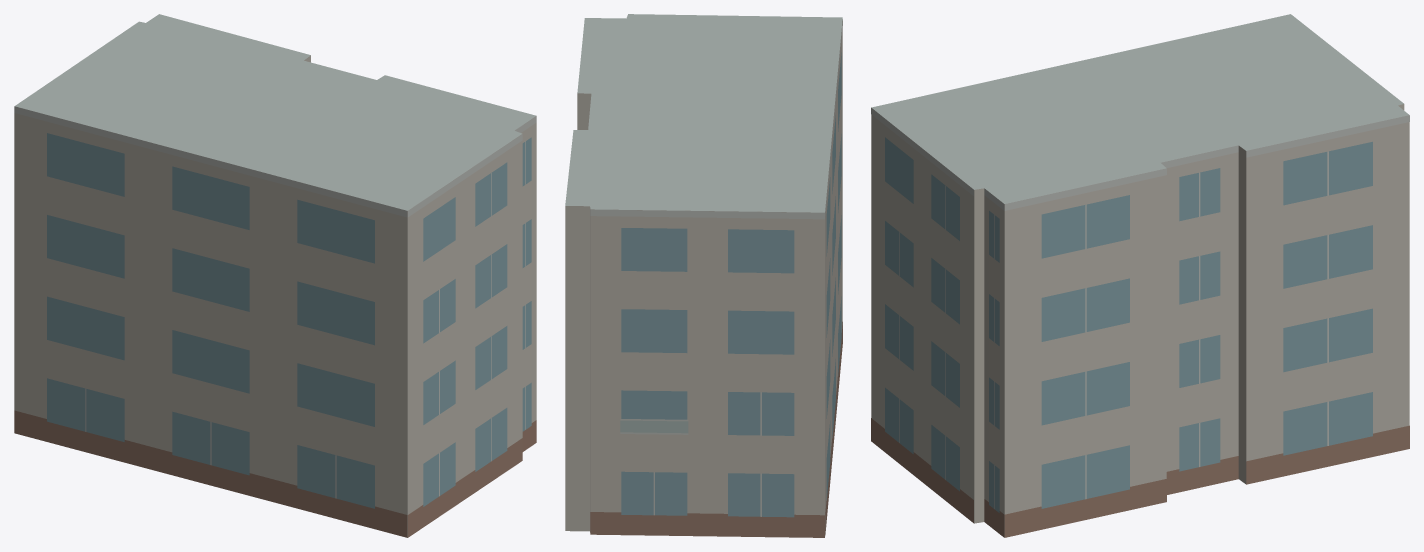
Rendered from survey-upis-32882505.glb.
The picture shows the model from 3 angles, left to right: view 1: azimuth 30°, elevation 25°; view 2: azimuth 150°, elevation 25°; view 3: azimuth 270°, elevation 25°; orthographic projection. The views are drawn at different scales.
Visible parts, largest first — view 1: survey-upis-32882505.tmp; view 2: survey-upis-32882505.tmp; view 3: survey-upis-32882505.tmp.
Part boxes in pixels (left/top/right/bottom): survey-upis-32882505.tmp: left=14, top=14, right=536, bottom=537; survey-upis-32882505.tmp: left=565, top=14, right=842, bottom=537; survey-upis-32882505.tmp: left=871, top=14, right=1409, bottom=537.
Size of the model in its own units: 14.55 by 11.9 by 17.41.
